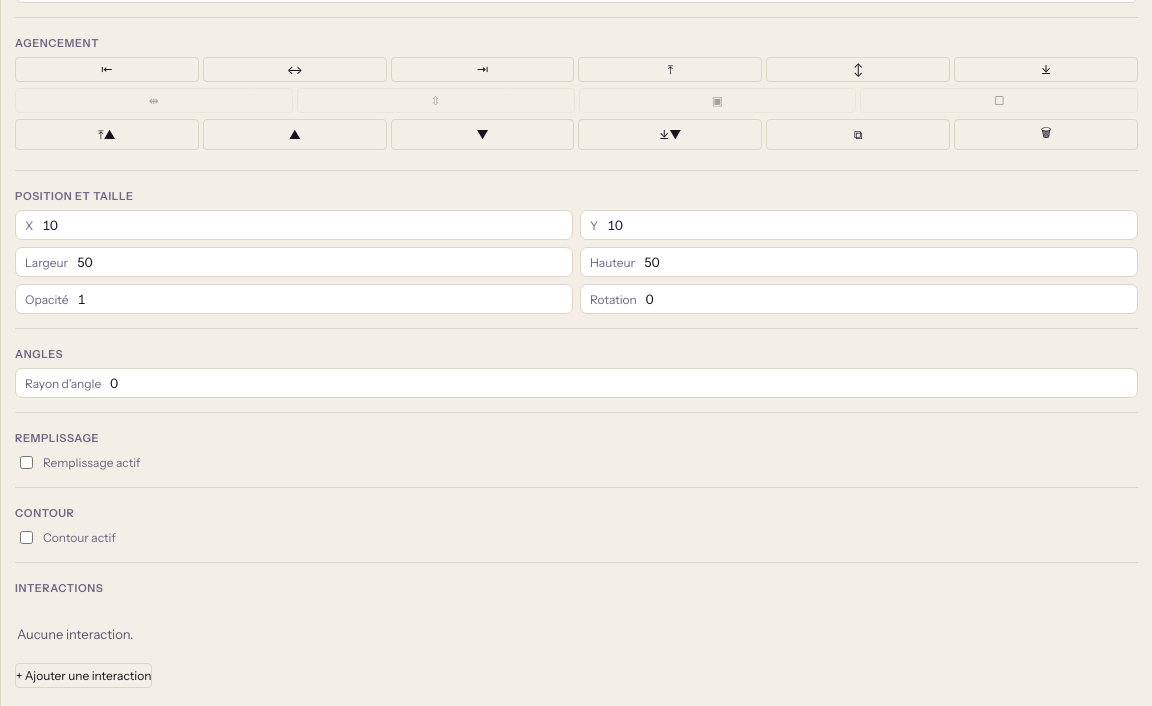
Test case: InspectorPanel - edition des interactions › une URL dangereuse est refusee avec un message, le document ne change pas
(page scrolled)
Click the button "+ Ajouter une interaction": (84, 676) [15,663,152,688]
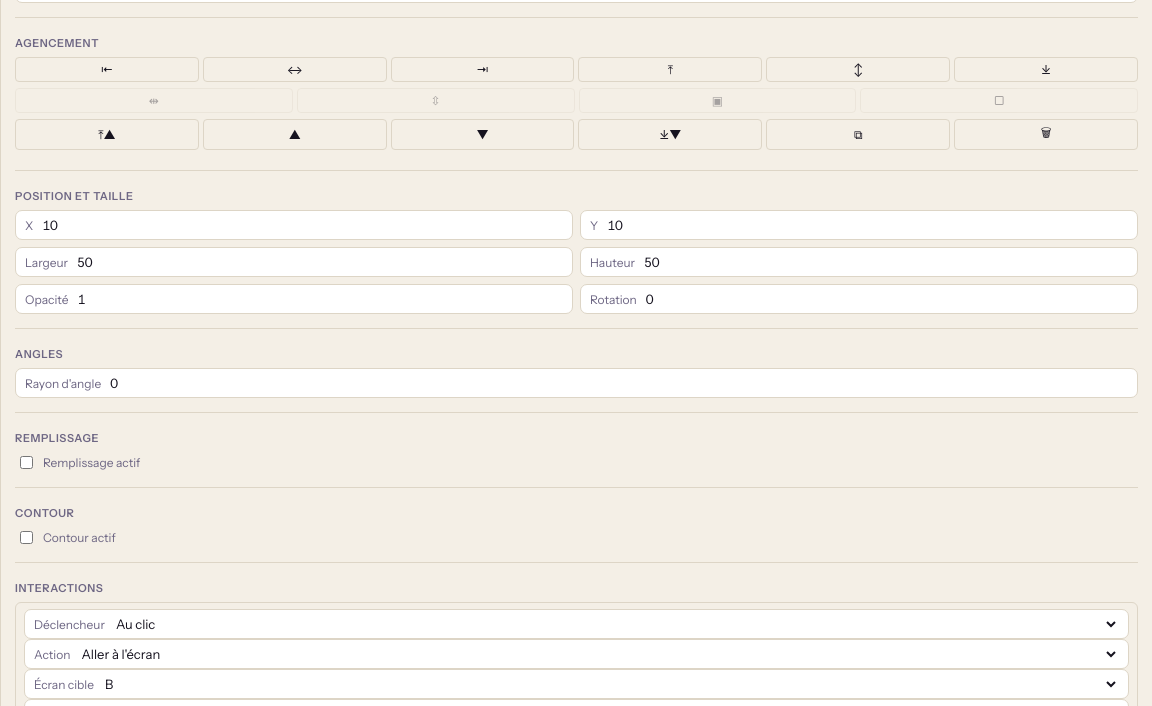
Select "Ouvrir une URL" in the dropdown labelled "Action": (598, 654) [77,645,1119,663]
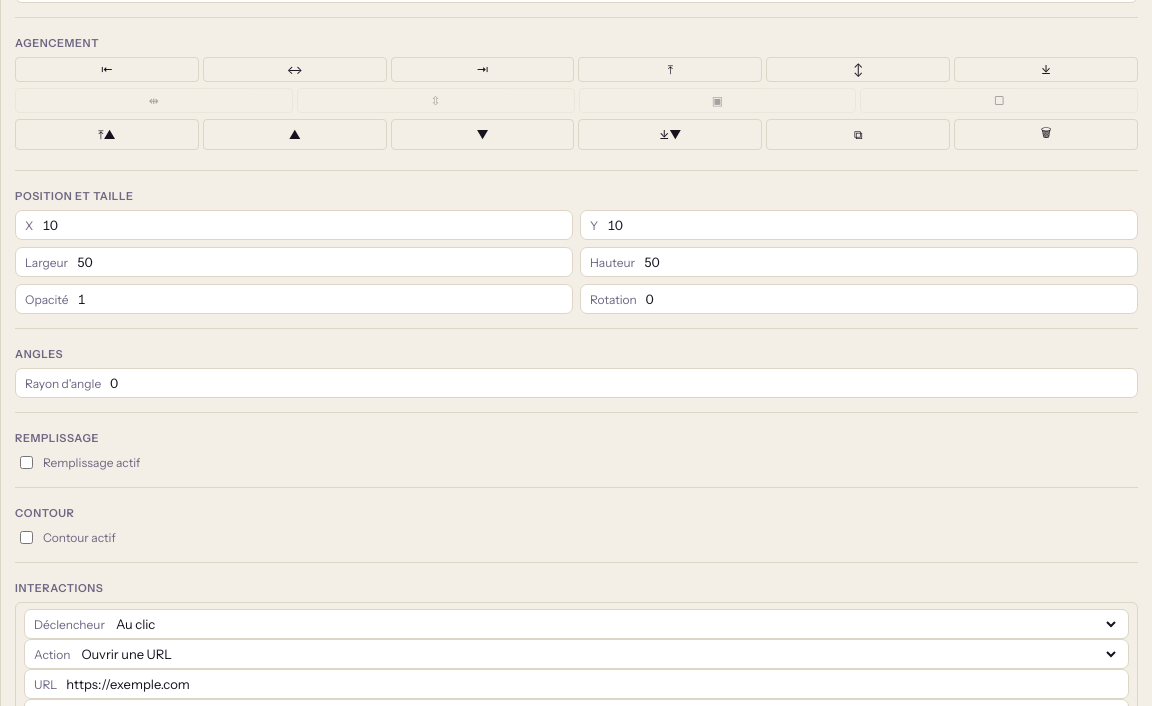
Replace the text in the field labelled "URL" with "javascript:alert(1)": (592, 684) [64,675,1119,693]
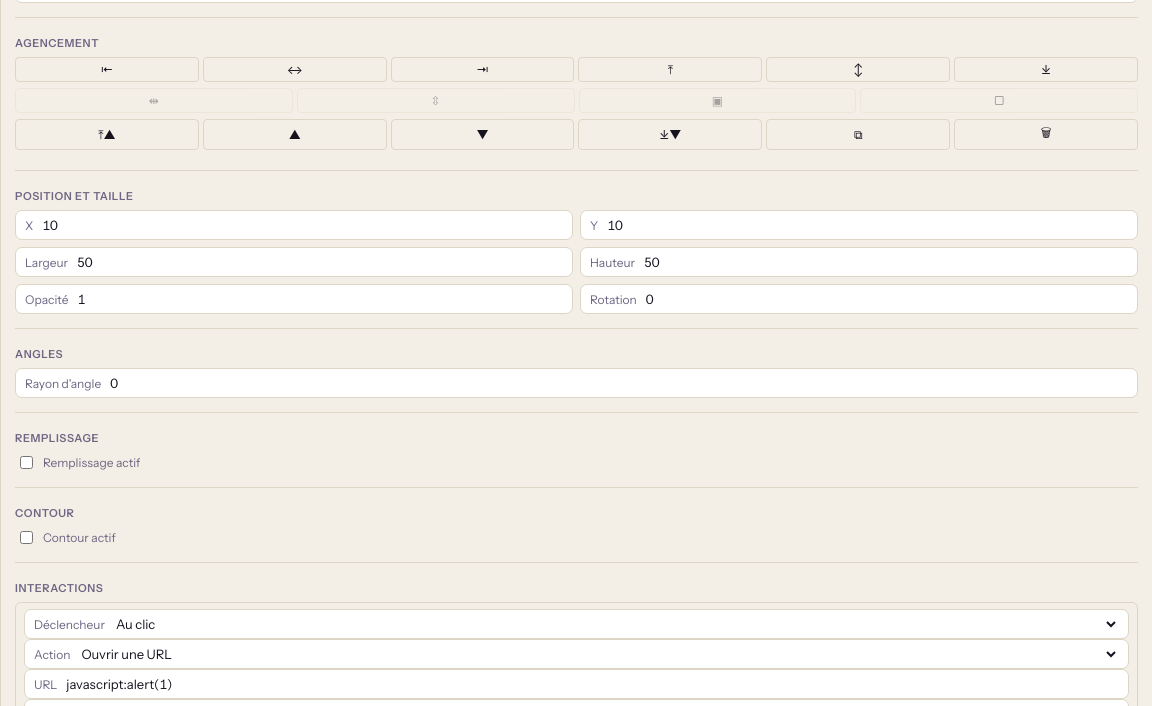
Leave the field labelled "URL", box [64,675,1119,693]
(page scrolled)
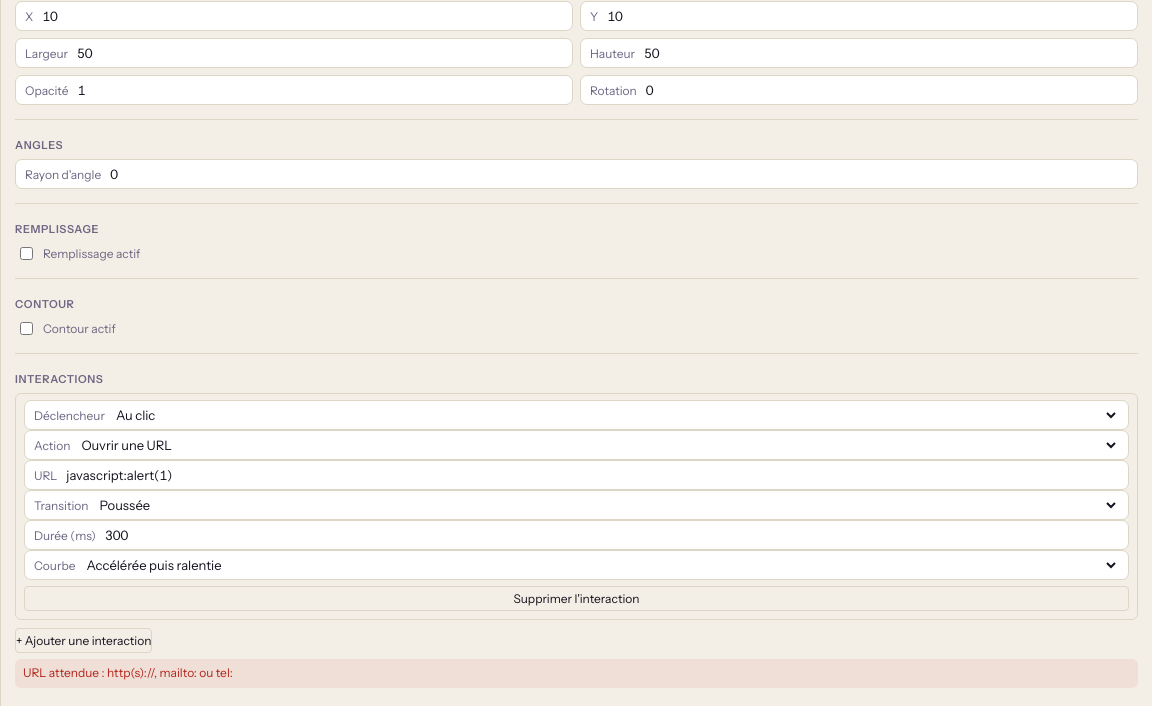
Now the message shows "URL", box [23,665,233,680]
